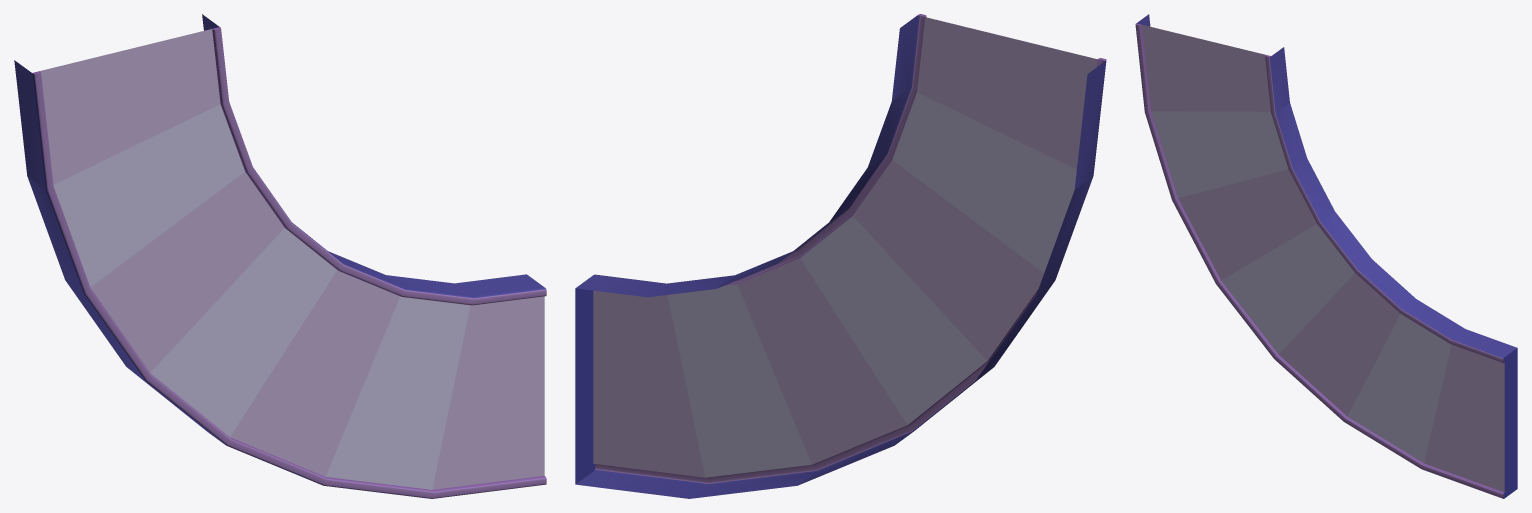
Rendered from Road_02.FBX.
3 views of the same model, side by side, from view 1: azimuth 30°, elevation 25°; view 2: azimuth 150°, elevation 25°; view 3: azimuth 330°, elevation 25° (orthographic). The views are drawn at different scales.
Visible parts, largest first — view 1: Road_02; view 2: Road_02; view 3: Road_02.
Boxes of the visible parts, bbox=[...] form: Road_02: bbox=[14, 14, 546, 498]; Road_02: bbox=[575, 14, 1106, 498]; Road_02: bbox=[1135, 14, 1517, 498].
Bounding box in the file's own units: 1372 × 92.3 × 1372.
